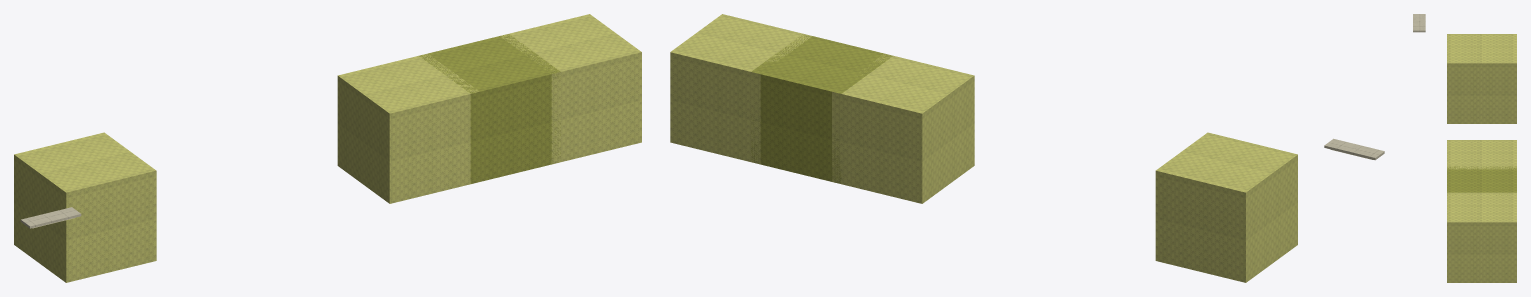
File: level0_walls_0_2.obj
3 views of the same model, side by side, from view 1: azimuth 30°, elevation 25°; view 2: azimuth 150°, elevation 25°; view 3: azimuth 270°, elevation 25° (orthographic). The views are drawn at different scales.
Size of the model in its own units: 23.62 by 3.2 by 4.97.
Materials: 4 (3 with a texture image).
